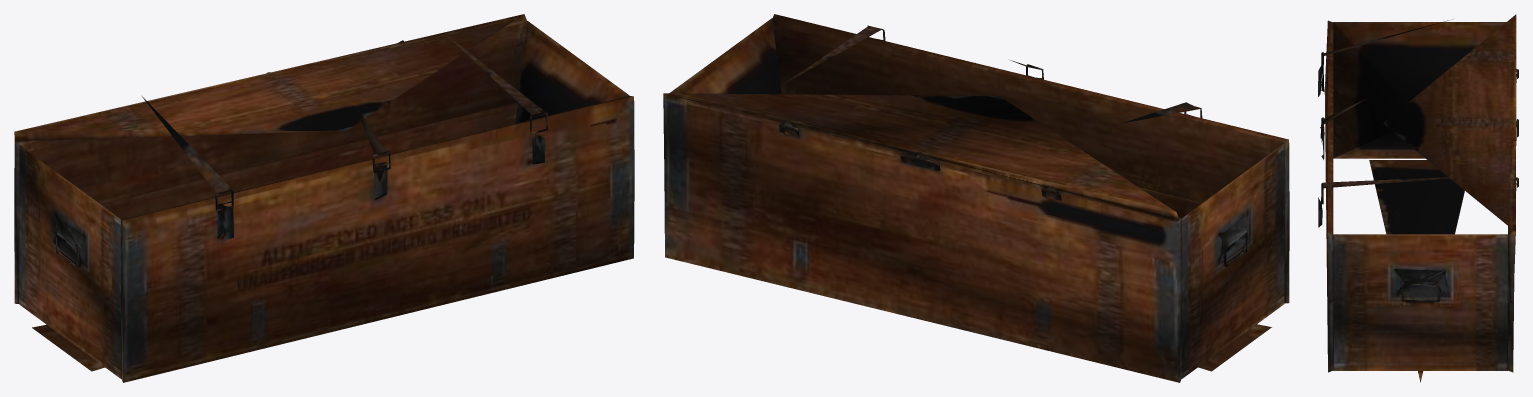
The model's file is milcrate.glb.
The picture shows the model from 3 angles, left to right: view 1: azimuth 30°, elevation 25°; view 2: azimuth 150°, elevation 25°; view 3: azimuth 270°, elevation 25°; orthographic projection. The views are drawn at different scales.
Visible parts, largest first — view 1: lo; view 2: lo; view 3: lo.
Boxes of the visible parts, x1,y1,x2,y2 form: lo: (14, 14, 634, 382); lo: (663, 14, 1289, 382); lo: (1318, 14, 1518, 382).
Size of the model in its own units: 1.26 by 0.4861 by 0.4806.
Materials: 1 (1 with a texture image).
